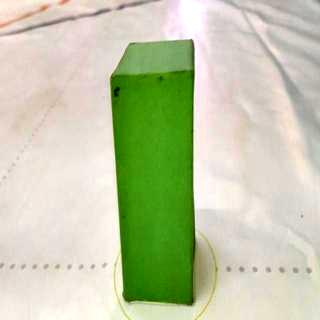greenbox: (108, 39, 199, 306)
